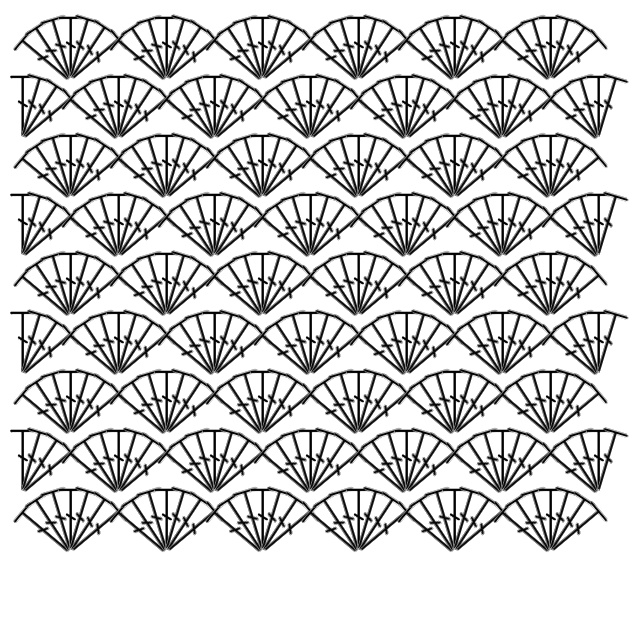double treble: (11, 27, 80, 91), (62, 27, 131, 91), (107, 27, 176, 91), (158, 27, 227, 91), (203, 27, 272, 91), (254, 27, 323, 91), (299, 27, 368, 91), (350, 27, 419, 91), (395, 27, 464, 91), (446, 27, 515, 91), (491, 27, 560, 91), (542, 27, 611, 91), (14, 86, 83, 150), (59, 86, 128, 150), (110, 86, 179, 150), (155, 86, 224, 150), (206, 86, 275, 150), (251, 86, 320, 150), (302, 86, 371, 150), (347, 86, 416, 150), (398, 86, 467, 150), (443, 86, 512, 150), (494, 86, 563, 150), (539, 86, 608, 150), (11, 145, 80, 209), (62, 145, 131, 209), (107, 145, 176, 209), (158, 145, 227, 209), (203, 145, 272, 209), (254, 145, 323, 209), (299, 145, 368, 209), (350, 145, 419, 209), (395, 145, 464, 209), (446, 145, 515, 209), (491, 145, 560, 209), (542, 145, 611, 209), (14, 204, 83, 268), (59, 204, 128, 268), (110, 204, 179, 268), (155, 204, 224, 268), (206, 204, 275, 268), (251, 204, 320, 268), (302, 204, 371, 268), (347, 204, 416, 268), (398, 204, 467, 268), (443, 204, 512, 268), (494, 204, 563, 268), (539, 204, 608, 268), (11, 263, 80, 327), (62, 263, 131, 327), (107, 263, 176, 327), (158, 263, 227, 327), (203, 263, 272, 327), (254, 263, 323, 327), (299, 263, 368, 327), (350, 263, 419, 327), (395, 263, 464, 327), (446, 263, 515, 327), (491, 263, 560, 327), (542, 263, 611, 327), (14, 322, 83, 386), (59, 322, 128, 386), (110, 322, 179, 386), (155, 322, 224, 386), (206, 322, 275, 386), (251, 322, 320, 386), (302, 322, 371, 386), (347, 322, 416, 386), (398, 322, 467, 386), (443, 322, 512, 386), (494, 322, 563, 386), (539, 322, 608, 386), (11, 381, 80, 445), (62, 381, 131, 445), (107, 381, 176, 445), (158, 381, 227, 445), (203, 381, 272, 445), (254, 381, 323, 445), (299, 381, 368, 445), (350, 381, 419, 445), (395, 381, 464, 445), (446, 381, 515, 445), (491, 381, 560, 445), (542, 381, 611, 445), (14, 440, 83, 504), (59, 440, 128, 504), (110, 440, 179, 504), (155, 440, 224, 504), (206, 440, 275, 504), (251, 440, 320, 504), (302, 440, 371, 504), (347, 440, 416, 504), (398, 440, 467, 504), (443, 440, 512, 504), (494, 440, 563, 504), (539, 440, 608, 504), (11, 499, 80, 563), (62, 499, 131, 563), (107, 499, 176, 563), (158, 499, 227, 563), (203, 499, 272, 563), (254, 499, 323, 563), (299, 499, 368, 563), (350, 499, 419, 563), (395, 499, 464, 563), (446, 499, 515, 563), (491, 499, 560, 563), (542, 499, 611, 563), (23, 17, 83, 88), (59, 17, 119, 88), (119, 17, 179, 88), (155, 17, 215, 88), (215, 17, 275, 88), (251, 17, 311, 88), (311, 17, 371, 88), (347, 17, 407, 88), (407, 17, 467, 88), (443, 17, 503, 88), (503, 17, 563, 88), (539, 17, 599, 88), (11, 76, 71, 147), (71, 76, 131, 147), (107, 76, 167, 147), (167, 76, 227, 147), (203, 76, 263, 147), (263, 76, 323, 147), (299, 76, 359, 147), (359, 76, 419, 147), (395, 76, 455, 147), (455, 76, 515, 147), (491, 76, 551, 147), (551, 76, 611, 147), (23, 135, 83, 206), (59, 135, 119, 206), (119, 135, 179, 206), (155, 135, 215, 206), (215, 135, 275, 206), (251, 135, 311, 206), (311, 135, 371, 206), (347, 135, 407, 206), (407, 135, 467, 206), (443, 135, 503, 206), (503, 135, 563, 206), (539, 135, 599, 206), (11, 194, 71, 265), (71, 194, 131, 265), (107, 194, 167, 265), (167, 194, 227, 265), (203, 194, 263, 265), (263, 194, 323, 265), (299, 194, 359, 265), (359, 194, 419, 265), (395, 194, 455, 265), (455, 194, 515, 265), (491, 194, 551, 265), (551, 194, 611, 265), (23, 253, 83, 324), (59, 253, 119, 324), (119, 253, 179, 324), (155, 253, 215, 324), (215, 253, 275, 324), (251, 253, 311, 324), (311, 253, 371, 324), (347, 253, 407, 324), (407, 253, 467, 324), (443, 253, 503, 324), (503, 253, 563, 324), (539, 253, 599, 324), (11, 312, 71, 383), (71, 312, 131, 383), (107, 312, 167, 383), (167, 312, 227, 383), (203, 312, 263, 383), (263, 312, 323, 383), (299, 312, 359, 383), (359, 312, 419, 383), (395, 312, 455, 383), (455, 312, 515, 383), (491, 312, 551, 383), (551, 312, 611, 383), (23, 371, 83, 442), (59, 371, 119, 442), (119, 371, 179, 442), (155, 371, 215, 442), (215, 371, 275, 442), (251, 371, 311, 442), (311, 371, 371, 442), (347, 371, 407, 442), (407, 371, 467, 442), (443, 371, 503, 442), (503, 371, 563, 442), (539, 371, 599, 442), (11, 430, 71, 501), (71, 430, 131, 501), (107, 430, 167, 501), (167, 430, 227, 501), (203, 430, 263, 501), (263, 430, 323, 501), (299, 430, 359, 501), (359, 430, 419, 501), (395, 430, 455, 501), (455, 430, 515, 501), (491, 430, 551, 501), (551, 430, 611, 501), (23, 489, 83, 560), (59, 489, 119, 560), (119, 489, 179, 560), (155, 489, 215, 560), (215, 489, 275, 560), (251, 489, 311, 560), (311, 489, 371, 560), (347, 489, 407, 560), (407, 489, 467, 560), (443, 489, 503, 560), (503, 489, 563, 560), (539, 489, 599, 560), (39, 13, 84, 84), (58, 13, 103, 84), (135, 13, 180, 84), (154, 13, 199, 84), (231, 13, 276, 84), (250, 13, 295, 84), (327, 13, 372, 84), (346, 13, 391, 84), (423, 13, 468, 84), (442, 13, 487, 84), (519, 13, 564, 84), (538, 13, 583, 84), (10, 72, 55, 143), (87, 72, 132, 143), (106, 72, 151, 143), (183, 72, 228, 143), (202, 72, 247, 143), (279, 72, 324, 143), (298, 72, 343, 143), (375, 72, 420, 143), (394, 72, 439, 143), (471, 72, 516, 143), (490, 72, 535, 143), (567, 72, 612, 143), (586, 72, 631, 143), (39, 131, 84, 202), (58, 131, 103, 202), (135, 131, 180, 202), (154, 131, 199, 202), (231, 131, 276, 202), (250, 131, 295, 202), (327, 131, 372, 202), (346, 131, 391, 202), (423, 131, 468, 202), (442, 131, 487, 202), (519, 131, 564, 202), (538, 131, 583, 202), (10, 190, 55, 261), (87, 190, 132, 261), (106, 190, 151, 261), (183, 190, 228, 261), (202, 190, 247, 261), (279, 190, 324, 261), (298, 190, 343, 261), (375, 190, 420, 261), (394, 190, 439, 261), (471, 190, 516, 261), (490, 190, 535, 261), (567, 190, 612, 261), (586, 190, 631, 261), (39, 249, 84, 320), (58, 249, 103, 320), (135, 249, 180, 320), (154, 249, 199, 320), (231, 249, 276, 320), (250, 249, 295, 320), (327, 249, 372, 320), (346, 249, 391, 320), (423, 249, 468, 320), (442, 249, 487, 320), (519, 249, 564, 320), (538, 249, 583, 320), (10, 308, 55, 379), (87, 308, 132, 379), (106, 308, 151, 379), (183, 308, 228, 379), (202, 308, 247, 379), (279, 308, 324, 379), (298, 308, 343, 379), (375, 308, 420, 379), (394, 308, 439, 379), (471, 308, 516, 379), (490, 308, 535, 379), (567, 308, 612, 379), (586, 308, 631, 379), (39, 367, 84, 438), (58, 367, 103, 438), (135, 367, 180, 438), (154, 367, 199, 438), (231, 367, 276, 438), (250, 367, 295, 438), (327, 367, 372, 438), (346, 367, 391, 438), (423, 367, 468, 438), (442, 367, 487, 438), (519, 367, 564, 438), (538, 367, 583, 438), (10, 426, 55, 497), (87, 426, 132, 497), (106, 426, 151, 497), (183, 426, 228, 497), (202, 426, 247, 497), (279, 426, 324, 497), (298, 426, 343, 497), (375, 426, 420, 497), (394, 426, 439, 497), (471, 426, 516, 497), (490, 426, 535, 497), (567, 426, 612, 497), (586, 426, 631, 497), (39, 485, 84, 556), (58, 485, 103, 556), (135, 485, 180, 556), (154, 485, 199, 556), (231, 485, 276, 556), (250, 485, 295, 556), (327, 485, 372, 556), (346, 485, 391, 556), (423, 485, 468, 556), (442, 485, 487, 556), (519, 485, 564, 556), (538, 485, 583, 556), (57, 14, 85, 80), (153, 14, 181, 80), (249, 14, 277, 80), (345, 14, 373, 80), (441, 14, 469, 80), (537, 14, 565, 80), (9, 73, 37, 139), (105, 73, 133, 139), (201, 73, 229, 139), (297, 73, 325, 139), (393, 73, 421, 139), (489, 73, 517, 139), (585, 73, 613, 139), (57, 132, 85, 198), (153, 132, 181, 198), (249, 132, 277, 198), (345, 132, 373, 198), (441, 132, 469, 198), (537, 132, 565, 198), (9, 191, 37, 257), (105, 191, 133, 257), (201, 191, 229, 257), (297, 191, 325, 257), (393, 191, 421, 257), (489, 191, 517, 257), (585, 191, 613, 257), (57, 250, 85, 316), (153, 250, 181, 316), (249, 250, 277, 316), (345, 250, 373, 316), (441, 250, 469, 316), (537, 250, 565, 316), (9, 309, 37, 375), (105, 309, 133, 375), (201, 309, 229, 375), (297, 309, 325, 375), (393, 309, 421, 375), (489, 309, 517, 375), (585, 309, 613, 375), (57, 368, 85, 434), (153, 368, 181, 434), (249, 368, 277, 434), (345, 368, 373, 434), (441, 368, 469, 434), (537, 368, 565, 434), (9, 427, 37, 493), (105, 427, 133, 493), (201, 427, 229, 493), (297, 427, 325, 493), (393, 427, 421, 493), (489, 427, 517, 493), (585, 427, 613, 493), (57, 486, 85, 552), (153, 486, 181, 552), (249, 486, 277, 552), (345, 486, 373, 552), (441, 486, 469, 552), (537, 486, 565, 552)
